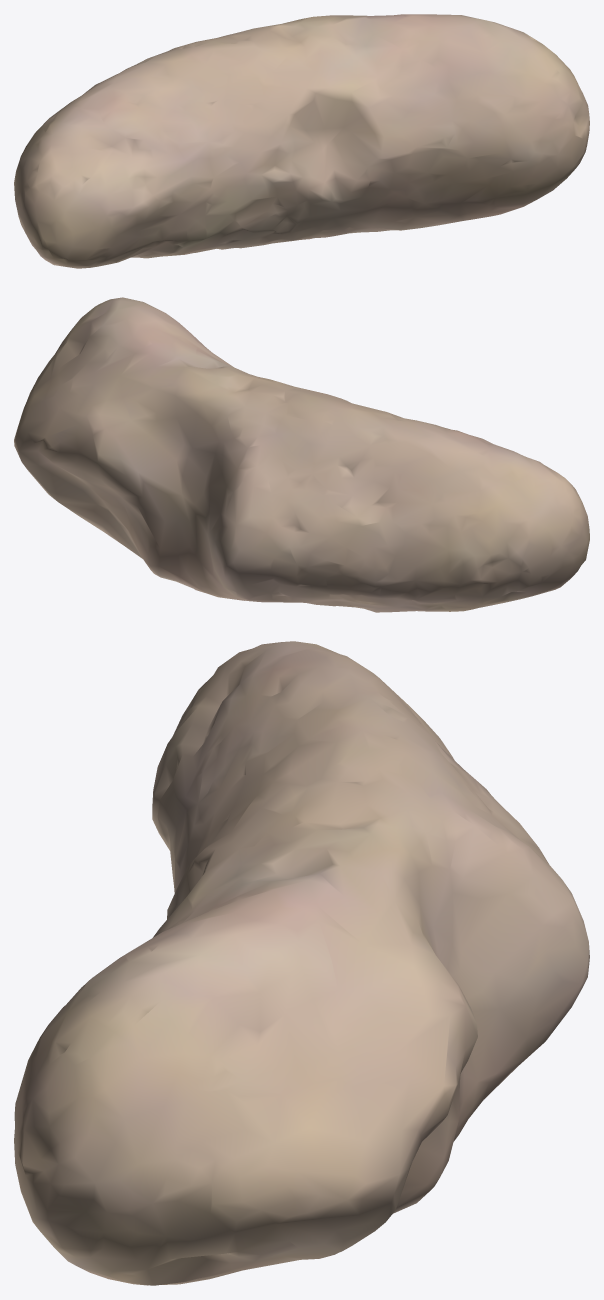
The model's file is eros_shape_1k.glb.
3 views of the same model, one above another, from view 1: azimuth 30°, elevation 25°; view 2: azimuth 150°, elevation 25°; view 3: azimuth 270°, elevation 25° (orthographic). The views are drawn at different scales.
Visible parts, largest first — view 1: eros; view 2: eros; view 3: eros.
Boxes of the visible parts, left/top/right/bottom form: eros: left=14, top=14, right=589, bottom=268; eros: left=14, top=297, right=589, bottom=612; eros: left=14, top=641, right=589, bottom=1285.
Bounding box in the file's own units: 32.65 × 11.94 × 16.88.
